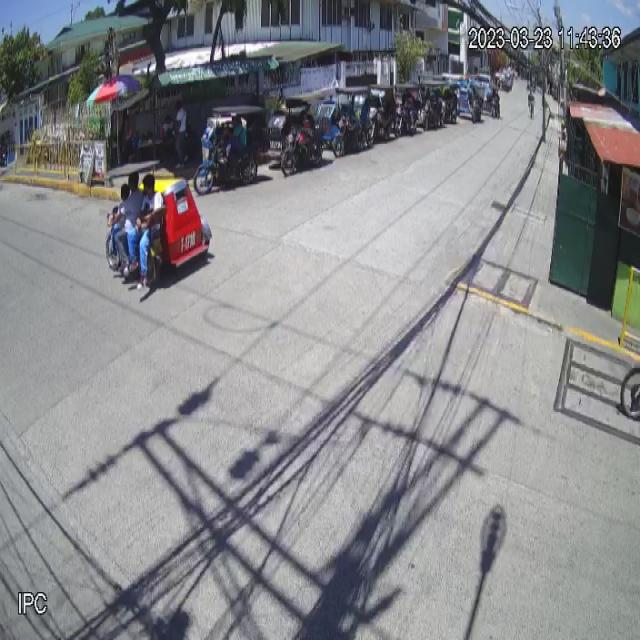Tricycle: (105, 159, 214, 290)
